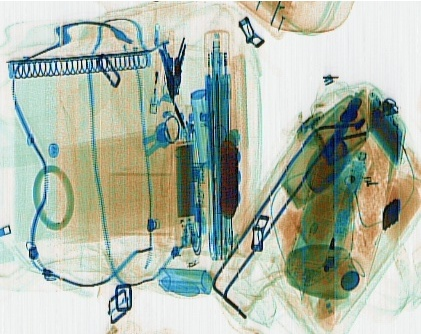lighter: (146, 45, 164, 115)
